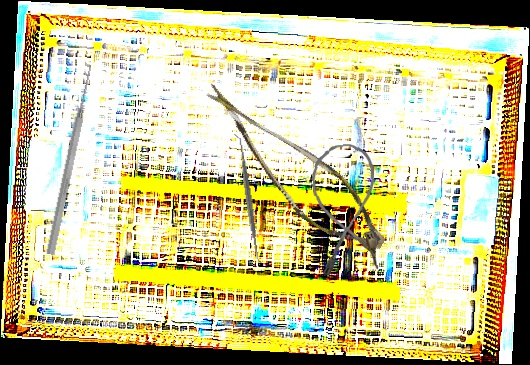Cannula: (310, 142, 381, 276)
Micro Scissor: (173, 82, 409, 261)
Pusher: (44, 64, 97, 256)
Spatula Surgical: (231, 132, 266, 265)
